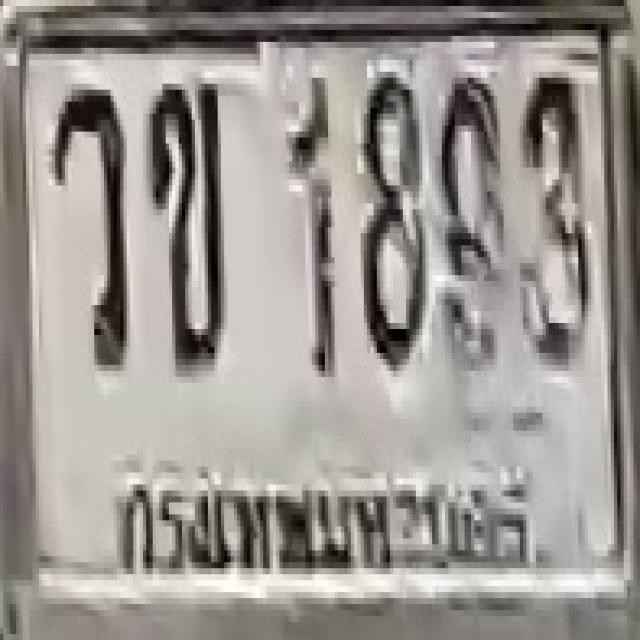1: (288, 69, 333, 374)
3: (517, 72, 588, 365)
8: (360, 69, 426, 368)
9: (437, 75, 505, 368)
A02: (143, 78, 221, 365)
A37: (50, 84, 125, 365)
BKK: (117, 459, 534, 580)
